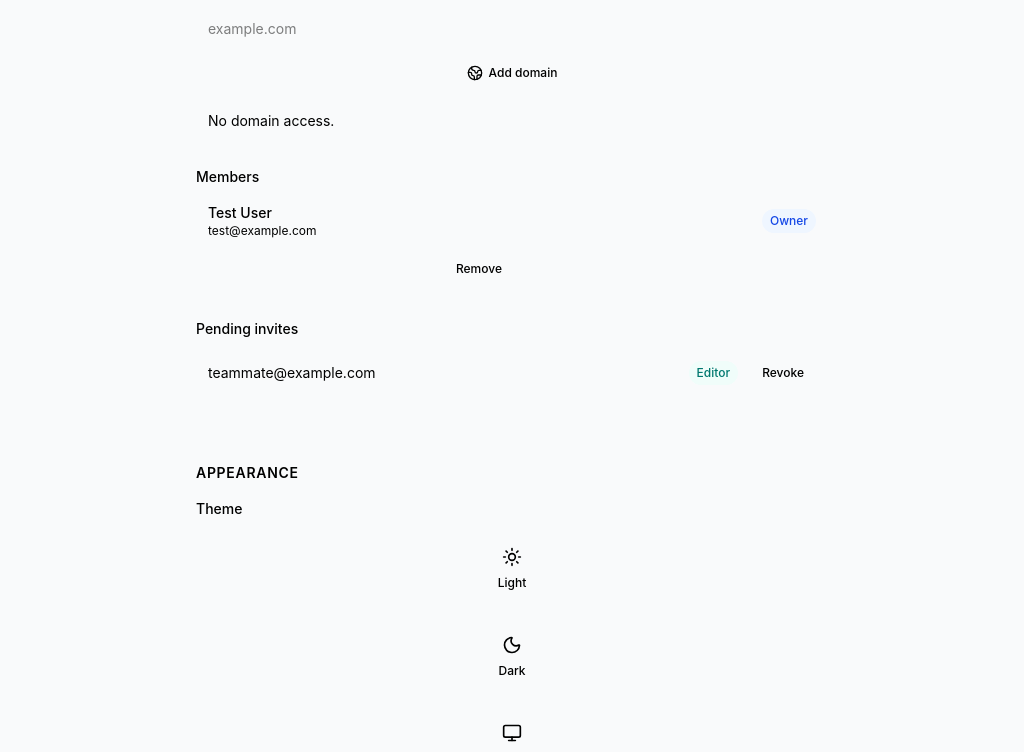
SettingsScreen › displays errors when revoking a pending outgoing invite fails
This screenshot has width=1024, height=752.
(page scrolled)
Click the button "Revoke" at (783, 373), box [750,355,816,391]
(page scrolled)
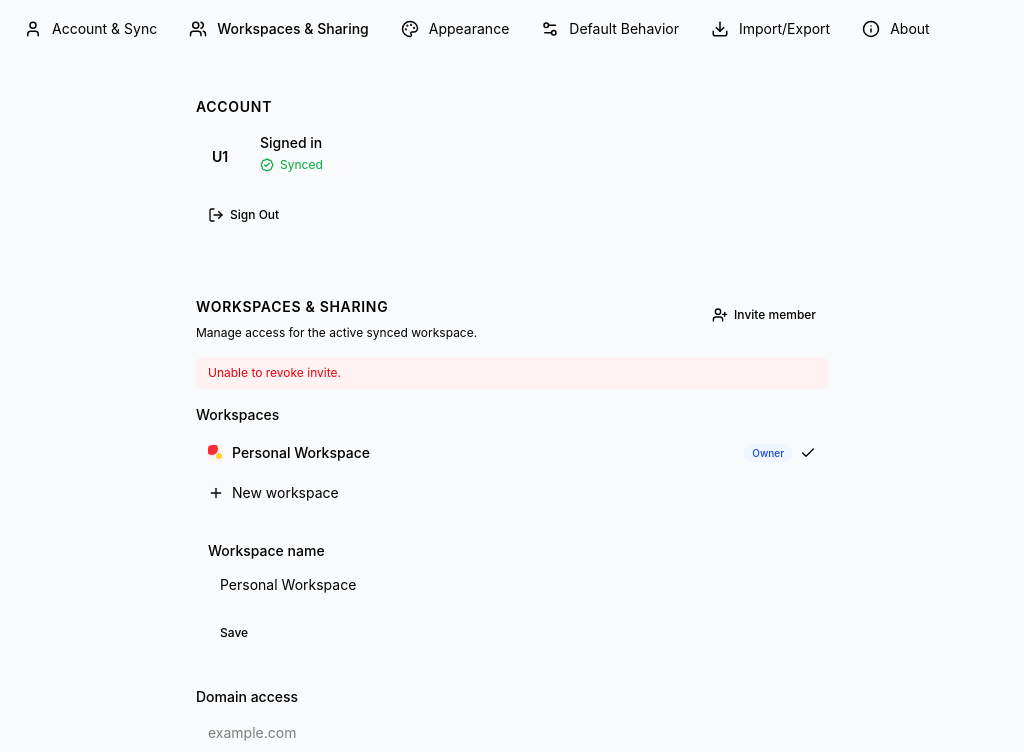
Expected: the message reads "Unable to revoke invite.", [208,365,341,380]
